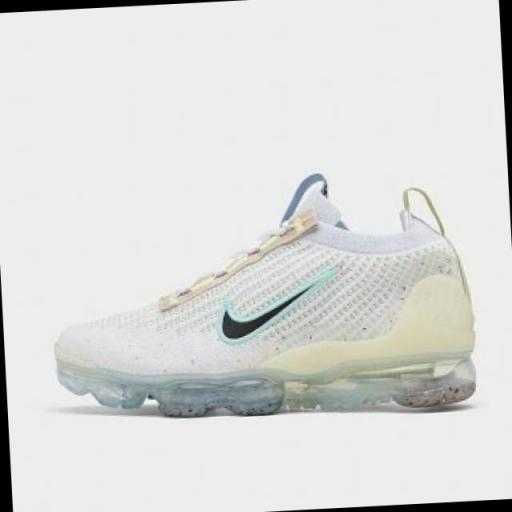Nike: (212, 264, 342, 350)
